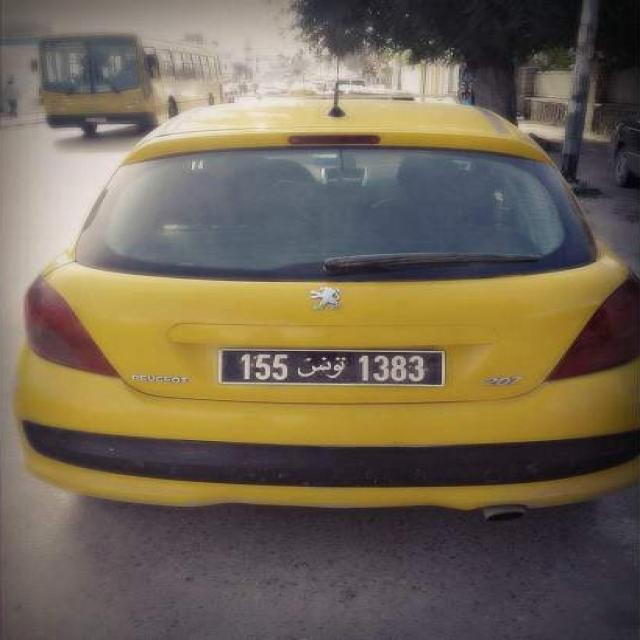licence plate: (222, 351, 442, 384)
